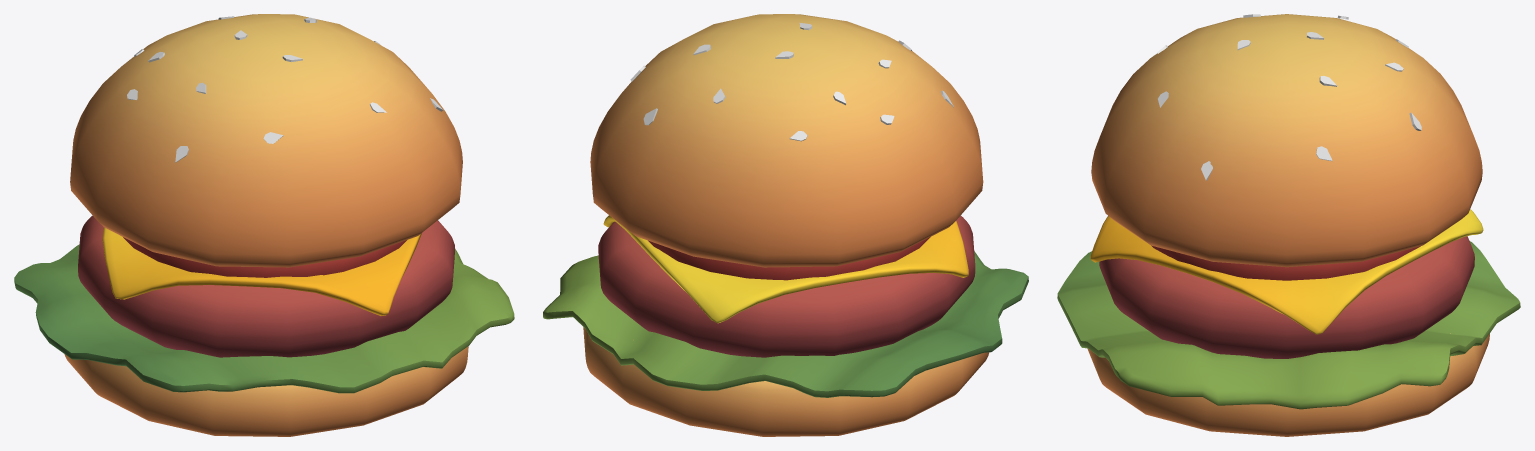
File: Hamburger.fbx
The picture shows the model from 3 angles, left to right: view 1: azimuth 30°, elevation 25°; view 2: azimuth 150°, elevation 25°; view 3: azimuth 270°, elevation 25°; orthographic projection.
Parts seen in each view (by area): view 1: Cube.005, Cube.003, Cube.002, Cube, Cube.004, Cylinder.009, Circle.014; view 2: Cube.005, Cube.003, Cube.002, Cube, Cube.004, Cylinder.009, Circle.014; view 3: Cube.005, Cube.003, Cube.002, Cube, Cube.004, Cylinder.009, Circle.014.
Part boxes in pixels (box(x1,y1,x2,y2)): Cube.005: box(70, 14, 462, 267); Cube.003: box(14, 244, 514, 393); Cube.002: box(78, 215, 454, 357); Cube: box(64, 346, 468, 436); Cube.004: box(102, 227, 421, 315); Cylinder.009: box(123, 237, 406, 277); Circle.014: box(127, 16, 442, 162); Cube.005: box(590, 14, 983, 267); Cube.003: box(543, 251, 1028, 397); Cube.002: box(598, 215, 975, 357); Cube: box(583, 327, 989, 436); Cube.004: box(603, 215, 968, 323); Cylinder.009: box(648, 237, 930, 280); Circle.014: box(630, 23, 953, 141); Cube.005: box(1091, 14, 1482, 267); Cube.003: box(1057, 241, 1520, 409); Cube.002: box(1099, 236, 1474, 358); Cube: box(1087, 333, 1489, 436); Cube.004: box(1090, 209, 1483, 334); Cylinder.009: box(1151, 245, 1420, 280); Circle.014: box(1157, 14, 1421, 180).
Bounding box in the file's own units: 204 × 153 × 198.
